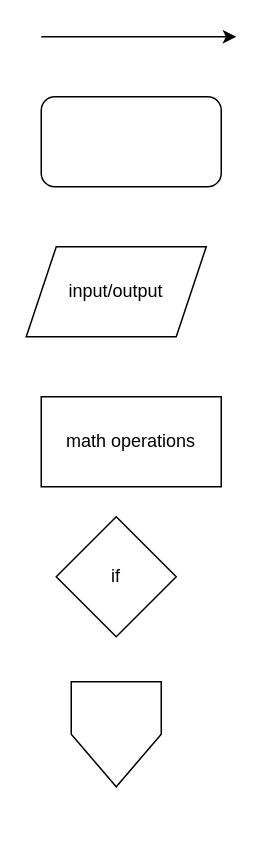
Image size: 275x845. Some labels were removed from this diagram. The shapes that lost their labels are listed below. From the top down, each one's box as (x1, y1, x2, y2) in pixels, then its label:
(40, 95, 221, 187): start/stop
(70, 680, 161, 787): connector
